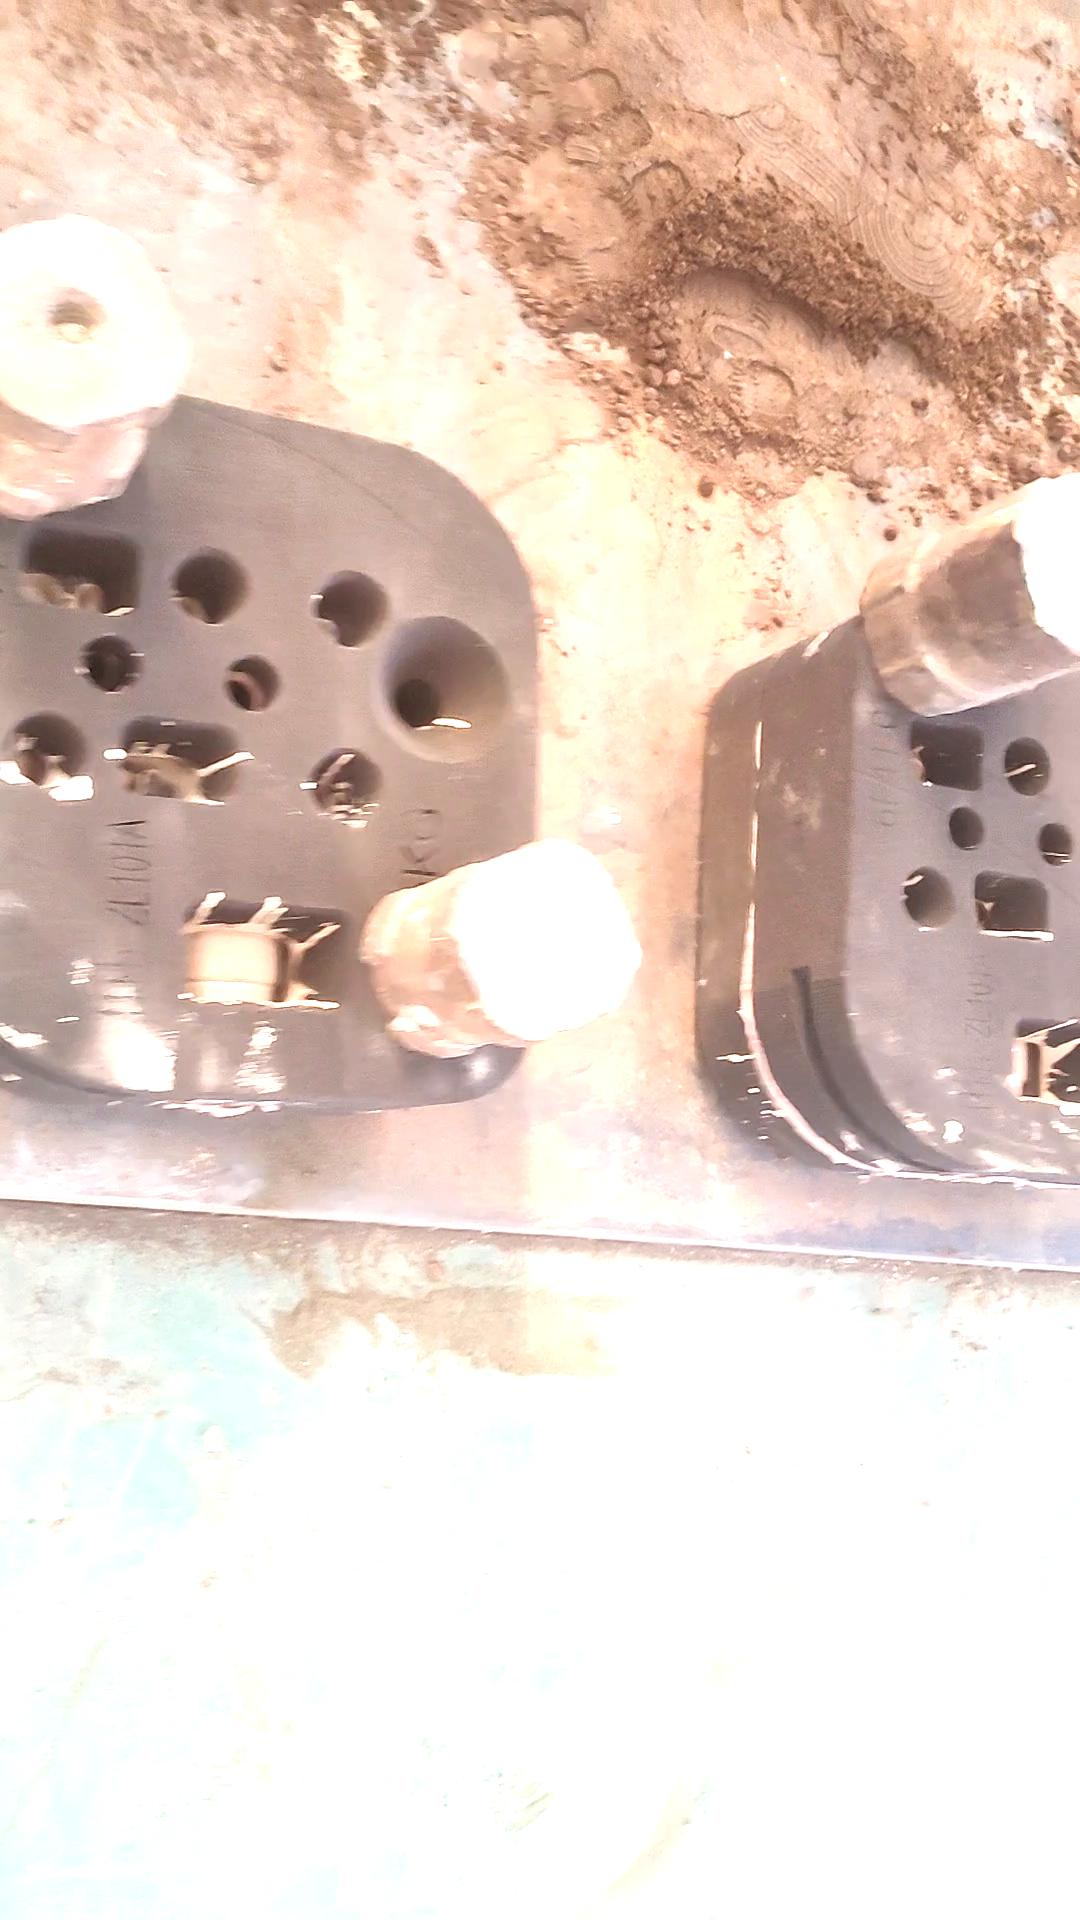pouring hole: (372, 617, 514, 764)
